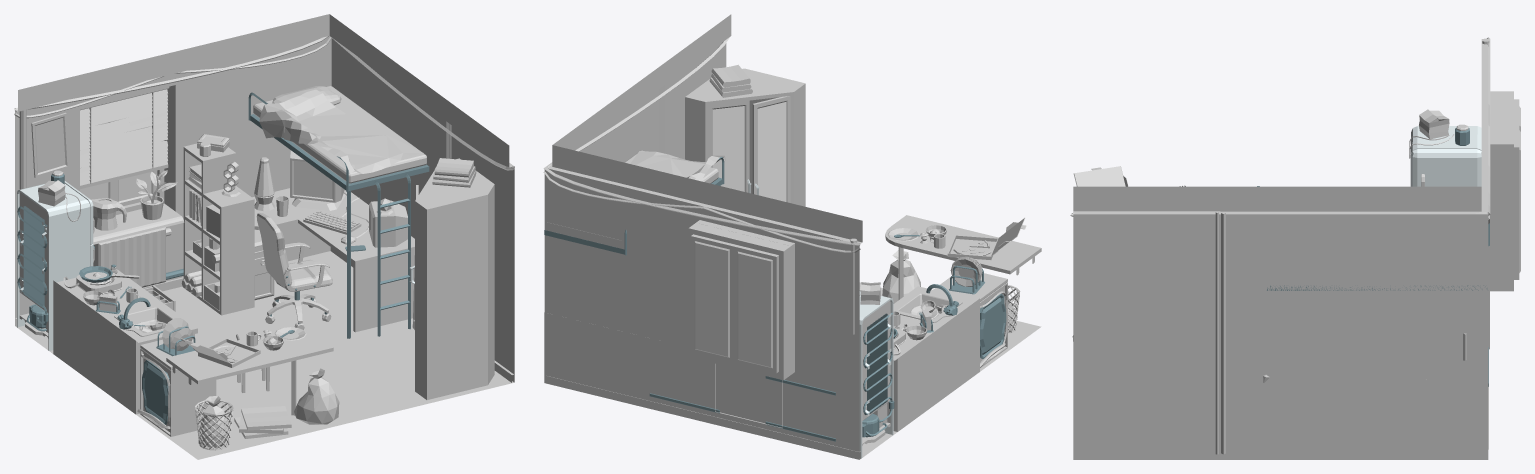
File: room2(volume).fbx
3 views of the same model, side by side, from view 1: azimuth 30°, elevation 25°; view 2: azimuth 150°, elevation 25°; view 3: azimuth 270°, elevation 25° (orthographic). The views are drawn at different scales.
Parts seen in each view (by area): view 1: Box010.001; view 2: Box010.001; view 3: Box010.001.
Part boxes in pixels (bbox=[...]): Box010.001: bbox=[14, 14, 514, 459]; Box010.001: bbox=[543, 14, 1041, 459]; Box010.001: bbox=[1070, 37, 1520, 459].
Bounding box in the file's own units: 1421 × 1024 × 1520.
